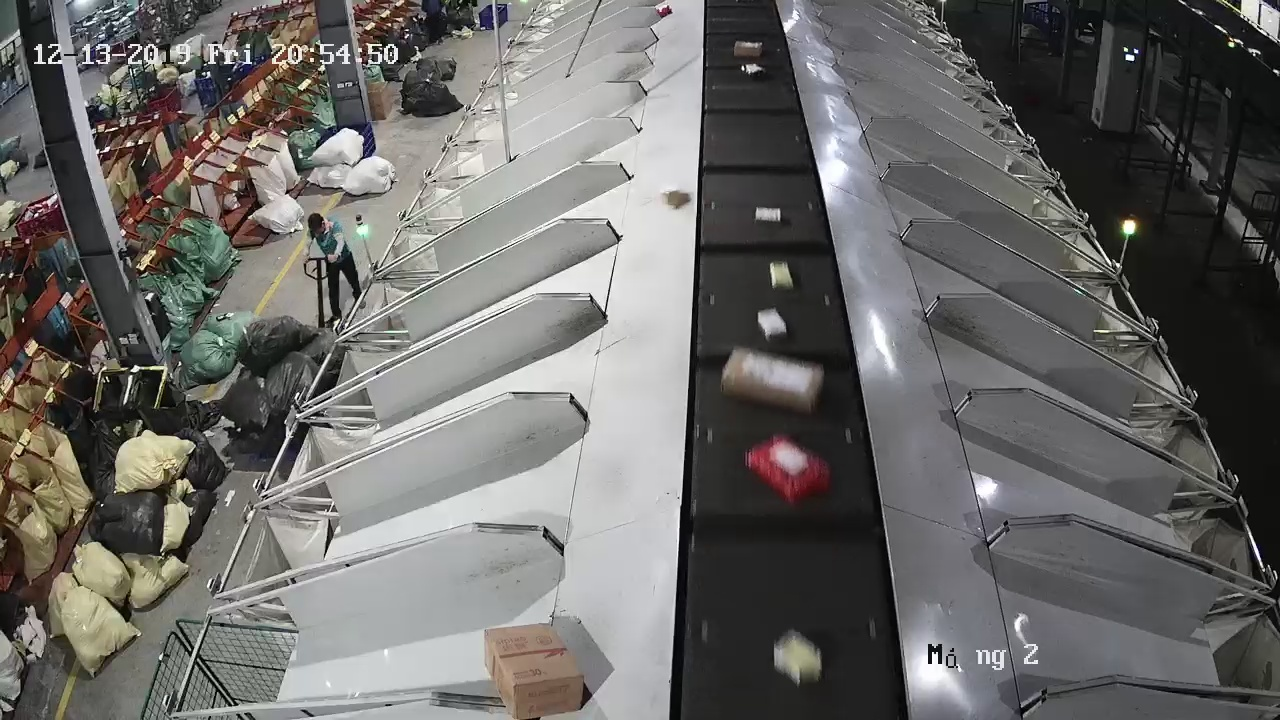parcel: (659, 188, 691, 209)
